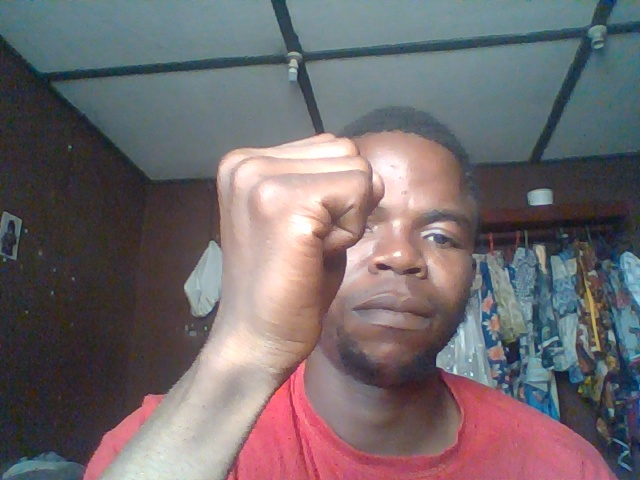Unity: (212, 131, 382, 384)
